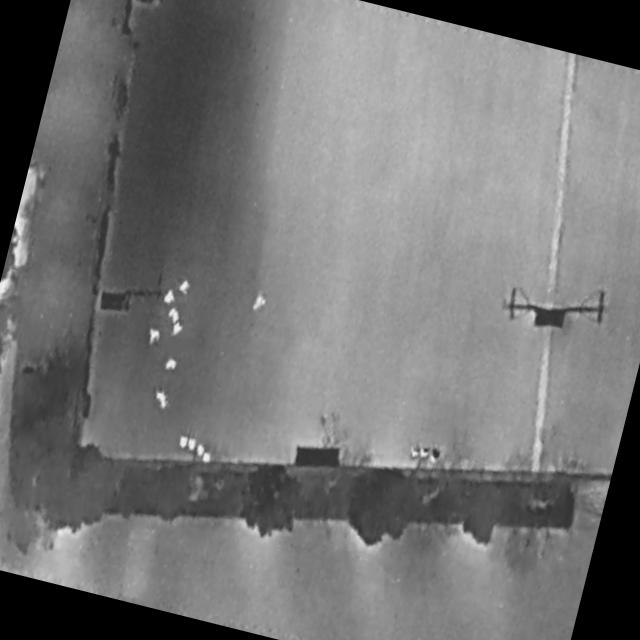person: (153, 389, 172, 410), (252, 293, 268, 313), (147, 327, 162, 347), (163, 288, 178, 306), (165, 357, 179, 374), (168, 307, 182, 324), (172, 321, 184, 338), (180, 280, 192, 296)
